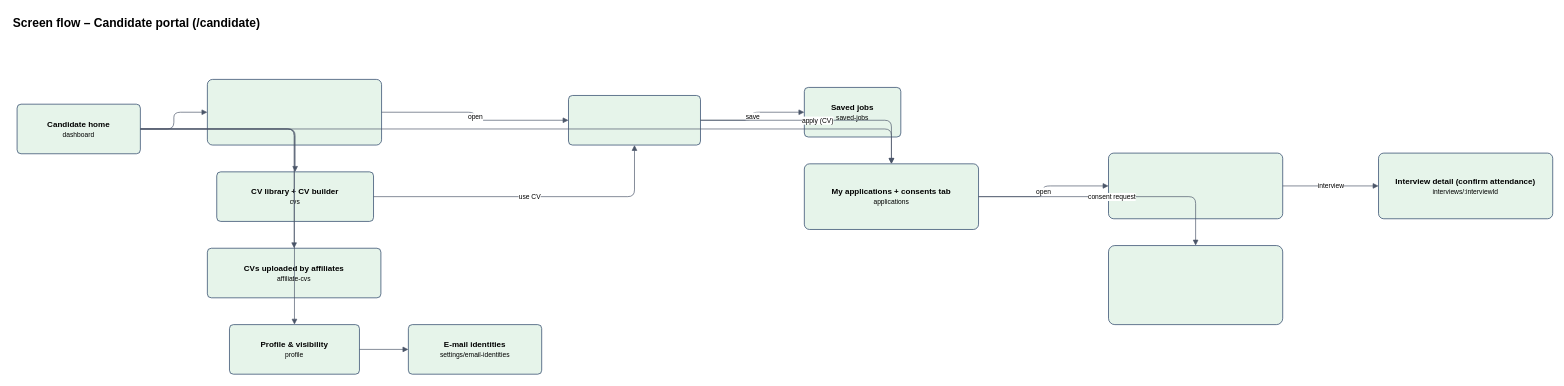
Image size: 1564x386. Some labels were removed from this diagram. The shapes that lost their labels are listed below. From the top down, each one's centre as x and y in pixels, then its label:
(x=294, y=112): Jobs (suggestions, search) jobs
(x=634, y=120): Job detail + Apply jobs/:jobId
(x=1195, y=185): Application detail / timeline applications/:applicationId
(x=1195, y=285): Submission consent detail submission-consents/:submissionId
